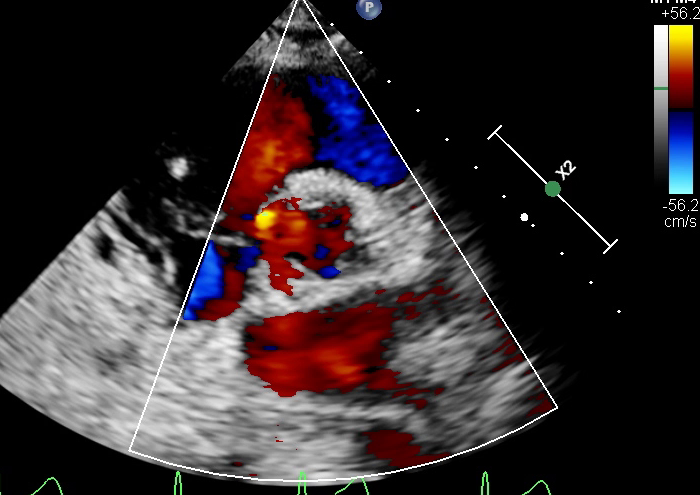TR: (218, 209, 274, 301)
